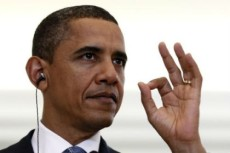earphone: (25, 56, 51, 90)
